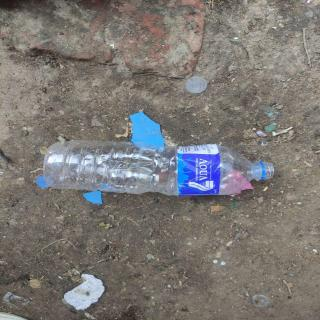Plastic-bottle: (41, 139, 280, 200)
